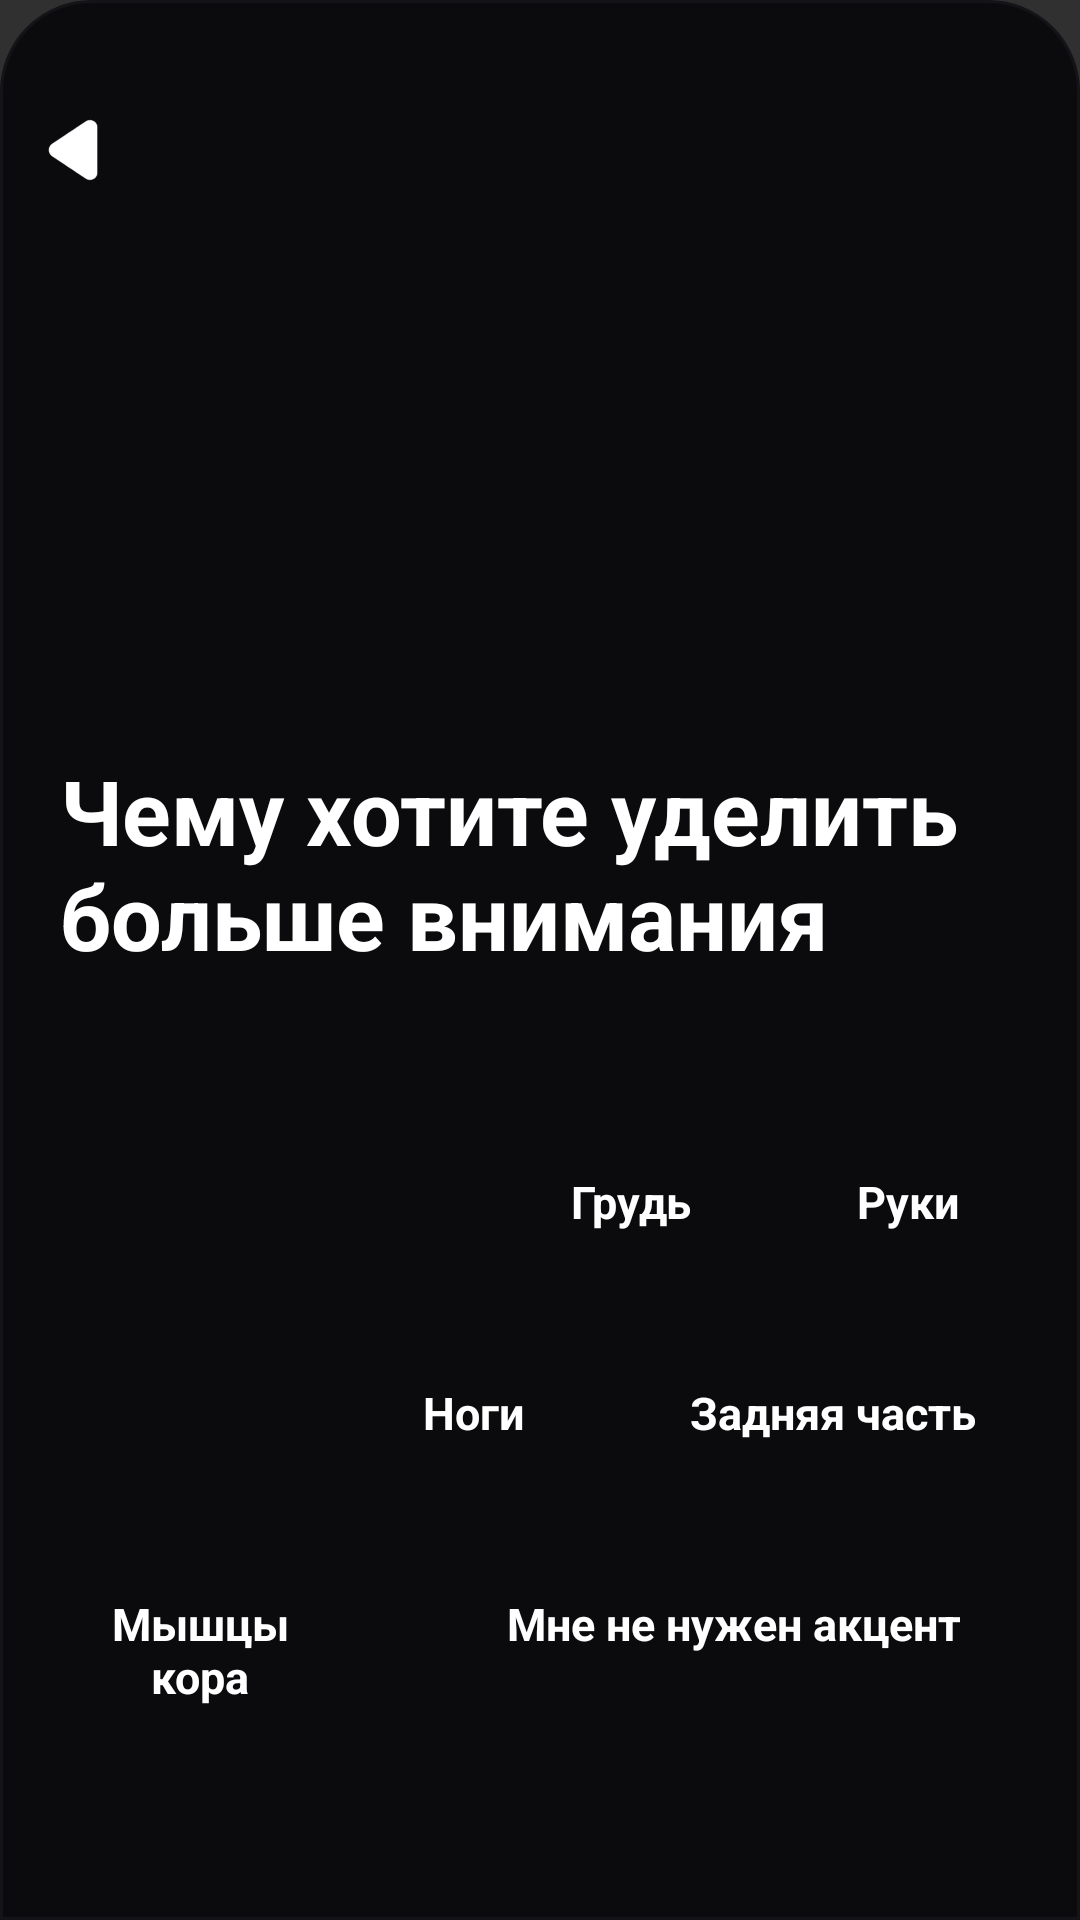

Point at icon controls on the screen. Image size 1080 × 1920, points as (x,y).
back: (73,150)
